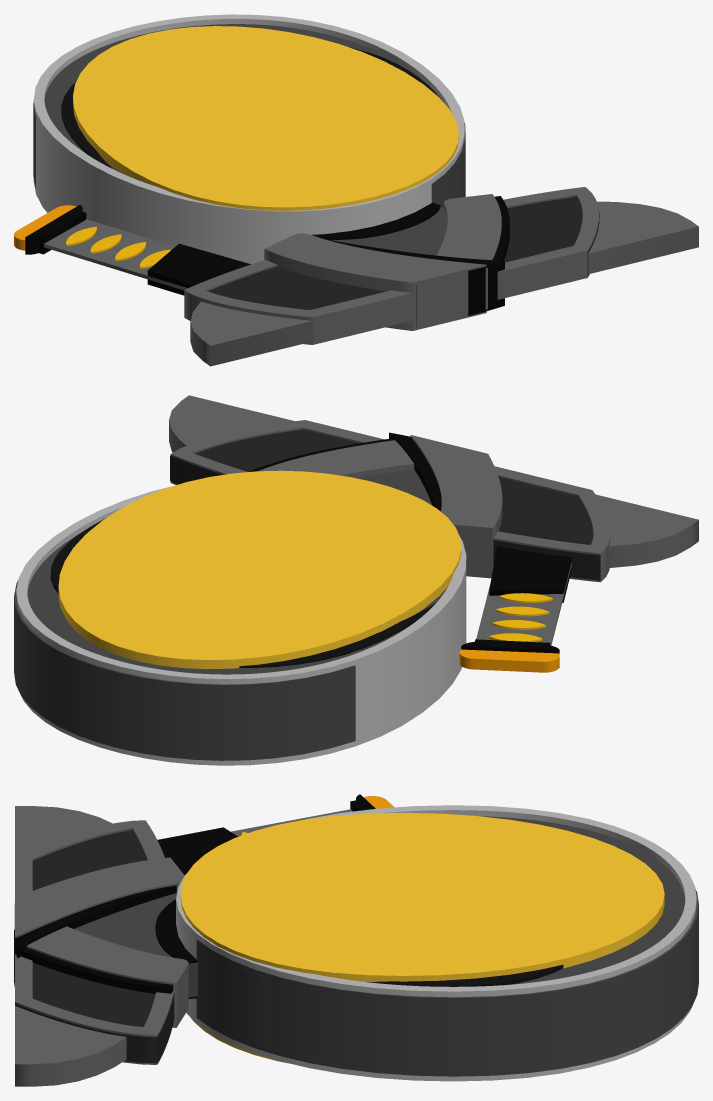
The model's file is emoji_u1f977.glb.
The picture shows the model from 3 angles, top to bottom: view 1: azimuth 30°, elevation 25°; view 2: azimuth 150°, elevation 25°; view 3: azimuth 270°, elevation 25°; orthographic projection. The views are drawn at different scales.
Parts seen in each view (by area): view 1: emoji_u1f977; view 2: emoji_u1f977; view 3: emoji_u1f977.
Boxes of the visible parts, x1,y1,x2,y2 form: emoji_u1f977: (14,14,698,366); emoji_u1f977: (14,395,698,765); emoji_u1f977: (14,794,698,1086).
Size of the model in its own units: 0.0314 by 0.0052 by 0.0332.
